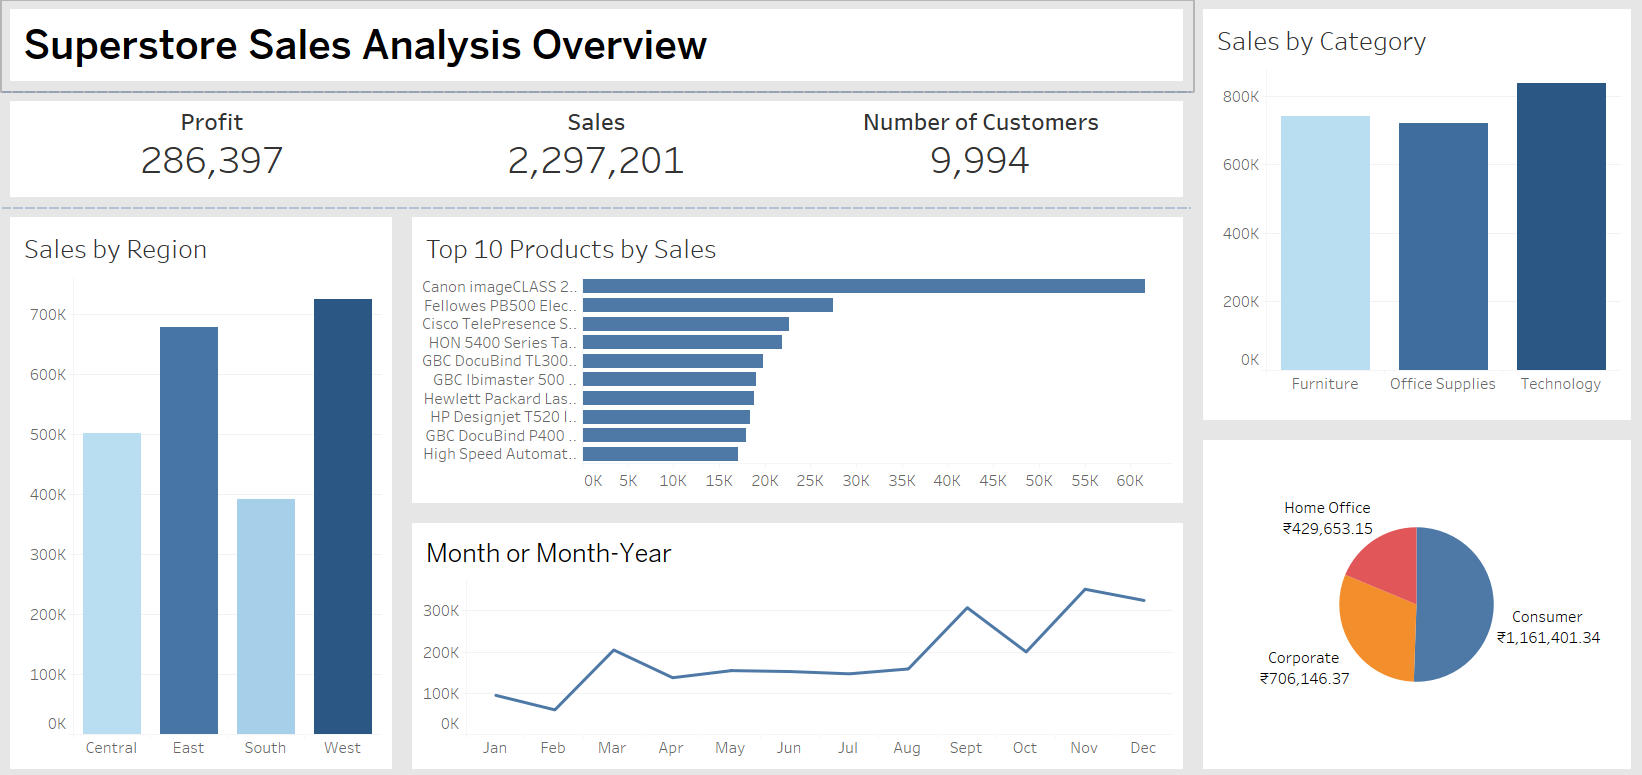

This screenshot's page, from the dashboard's own definition file:
{"tool":"tableau","page":{"name":"Dashboard 1","canvas":[1000,1000],"units":"permille","ordinal":0},"visuals":[{"type":"text","box":[0,0,595.9,88.6]},{"type":"worksheet","title":"Sales by Category","mark":"Bar","rows":["Sales"],"cols":["Category"],"box":[595.9,0,273.2,537.5]},{"type":"worksheet","title":"KPI's","mark":"Automatic","box":[0,88.6,595.9,137.3]},{"type":"worksheet","title":"Sales by Region","mark":"Bar","rows":["Sales"],"cols":["Region"],"box":[0,226,212.9,747.8]},{"type":"worksheet","title":"Top 10 Products by Sales","mark":"Automatic","rows":["Product Name"],"cols":["Sales"],"box":[212.9,226,382.9,382]},{"type":"worksheet","title":"Sales by Customer Segment","mark":"Pie","box":[595.9,537.5,273.2,436.3]},{"type":"worksheet","title":"Monthly Sales Trend","mark":"Line","rows":["Sales"],"cols":["Order Date"],"box":[212.9,608,382.9,365.8]}]}

Visuals, with their boxes on the dashboard's canvas, which has no fixed pixel size, in thousandths of its width and height (x1, y1, x2, y2). These are canvas units, not pixel positions in the 1642x775 screenshot, which may show the page scaled, cropped or inside an application window:
text: 0,0,596,89
"Sales by Category" worksheet (Bar marks): 596,0,869,538
"KPI's" worksheet: 0,89,596,226
"Sales by Region" worksheet (Bar marks): 0,226,213,974
"Top 10 Products by Sales" worksheet: 213,226,596,608
"Sales by Customer Segment" worksheet (Pie marks): 596,538,869,974
"Monthly Sales Trend" worksheet (Line marks): 213,608,596,974
